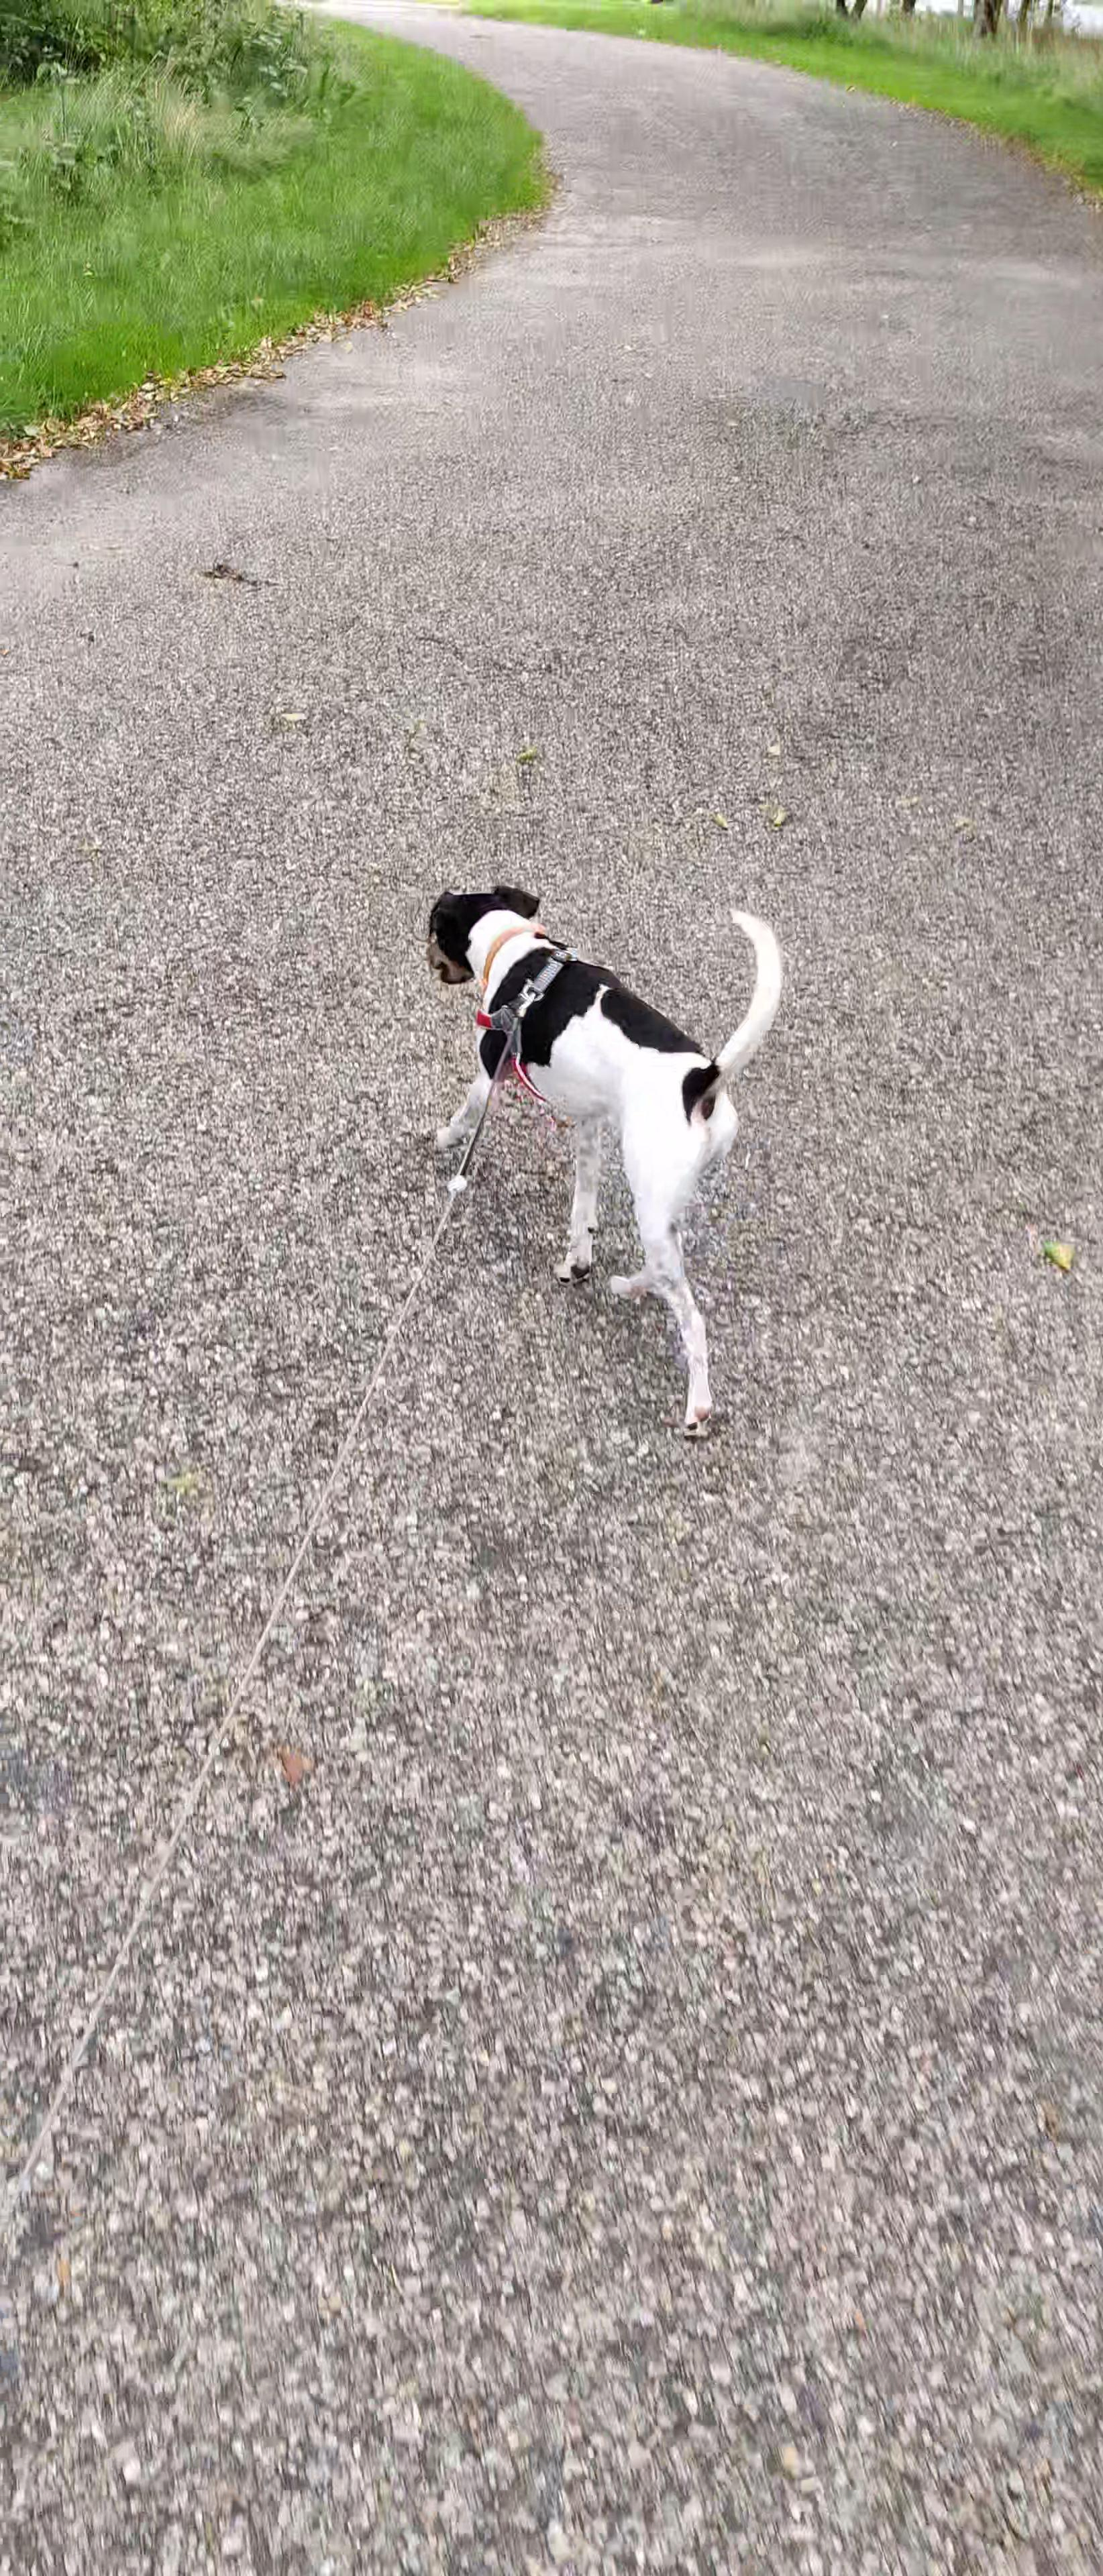Dog: (375, 858, 804, 1459)
